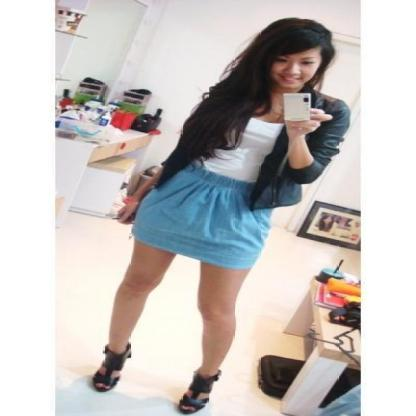bag: (112, 166, 162, 224)
jacket: (154, 89, 349, 211)
shirt: (204, 118, 281, 180)
shoe: (92, 344, 220, 415)
skirt: (131, 158, 273, 269)
